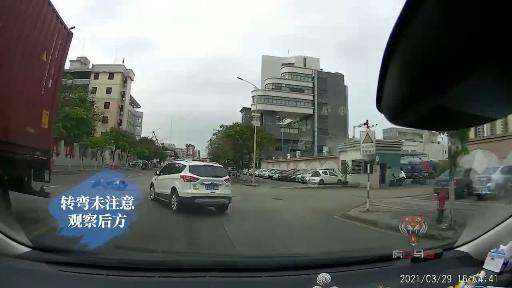Accident: (92, 169, 127, 193)
CAR: (152, 159, 234, 218), (310, 169, 338, 186)
